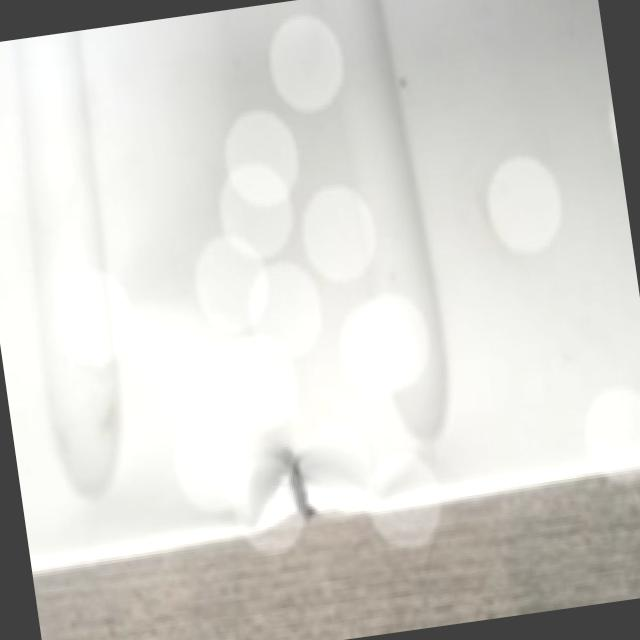crack: (263, 438, 337, 534)
